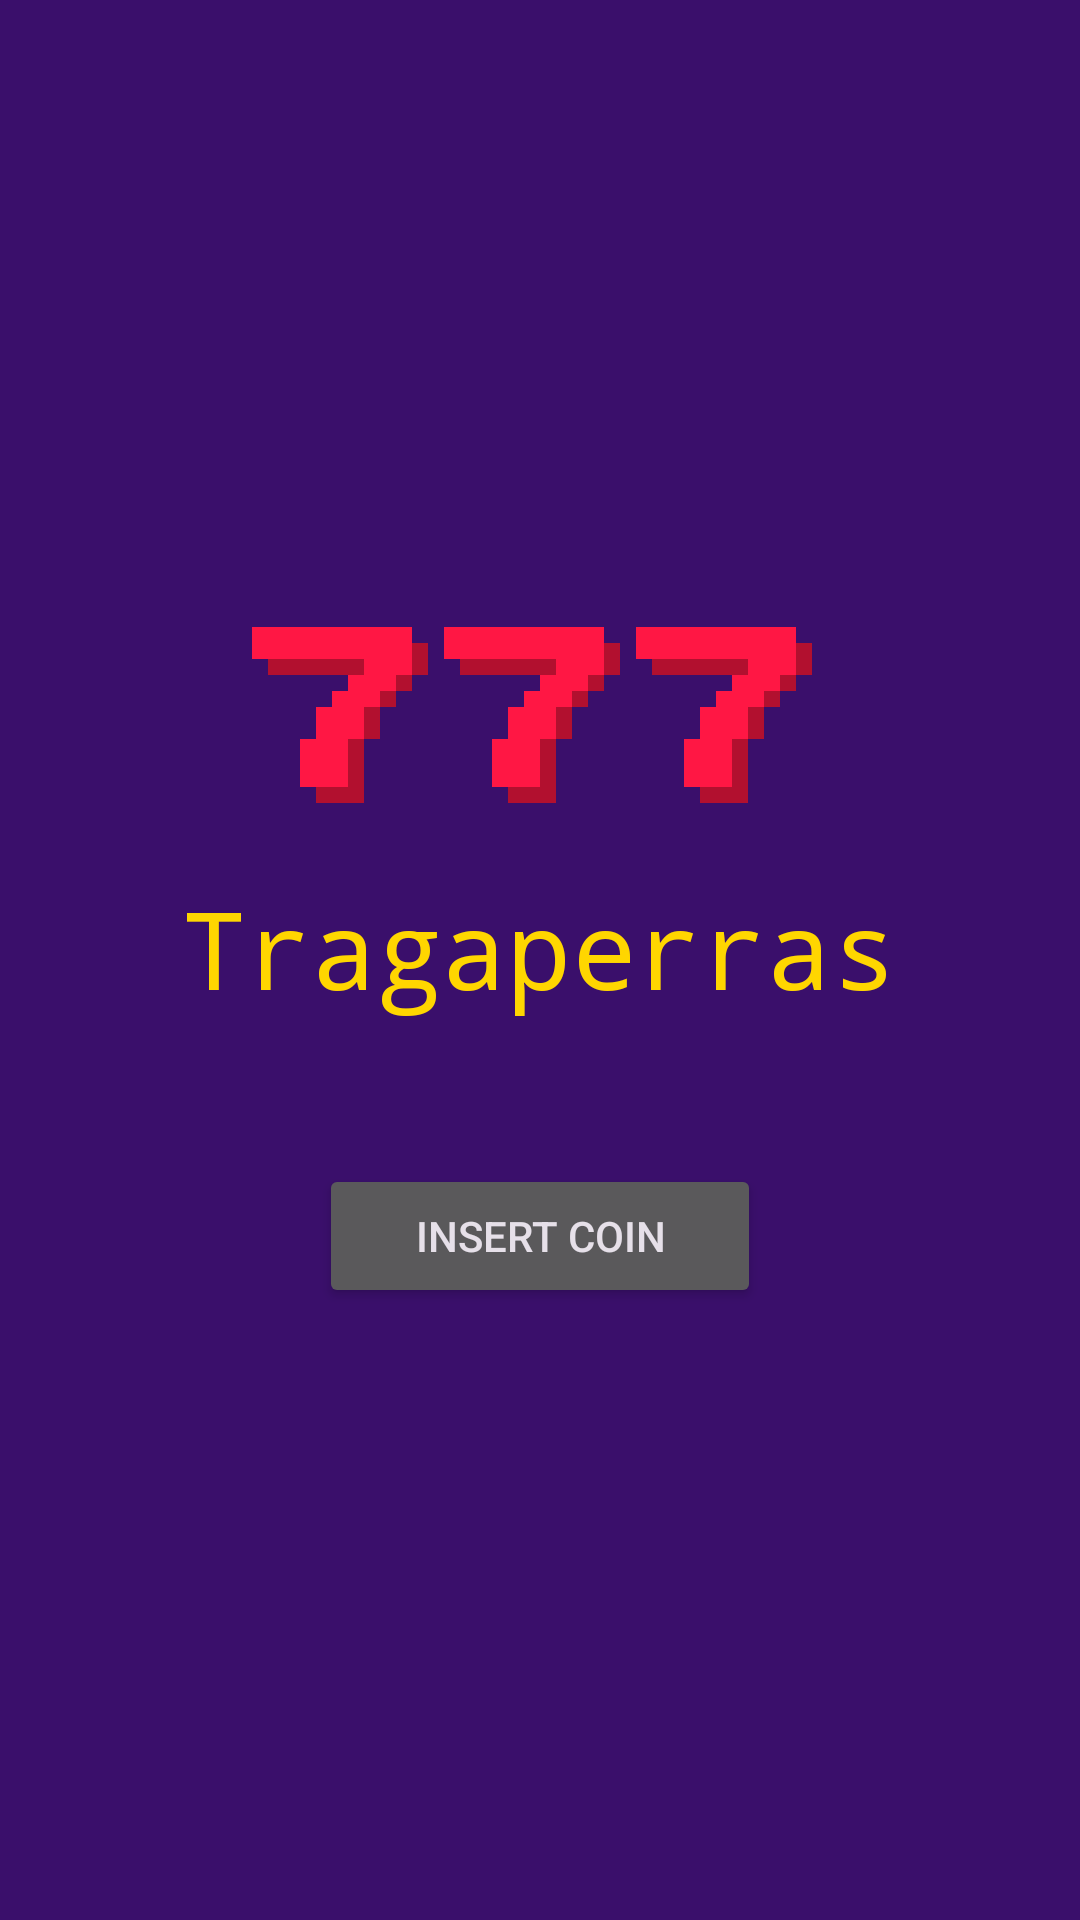

Named icons in this screenshot (1080w x 1920h) and their centers, (x,y):
simbolo siete: (340,715), (532,715), (724,715)
